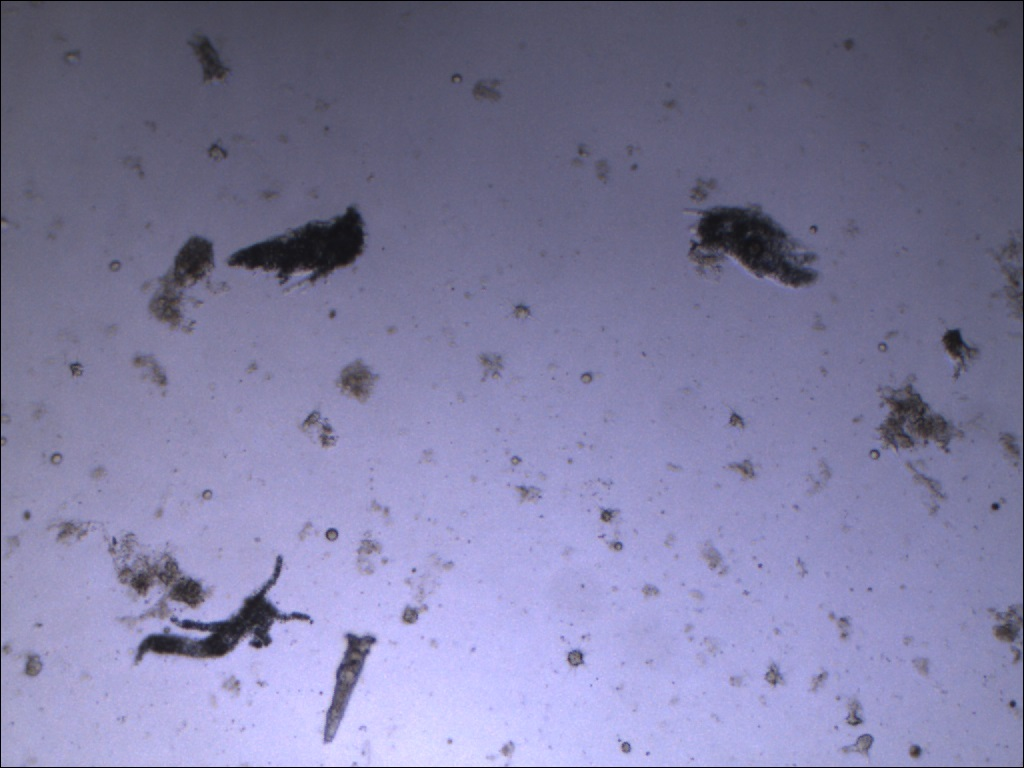amoeba: (135, 550, 318, 670), (675, 199, 828, 297), (221, 200, 375, 296)
